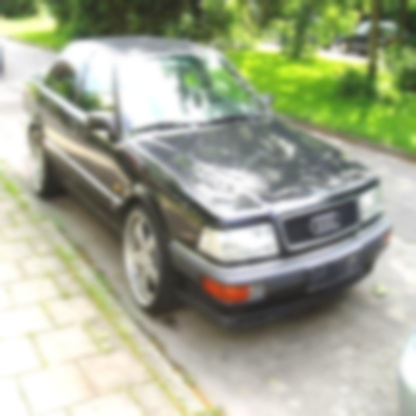Vehicle: (23, 32, 391, 338)
